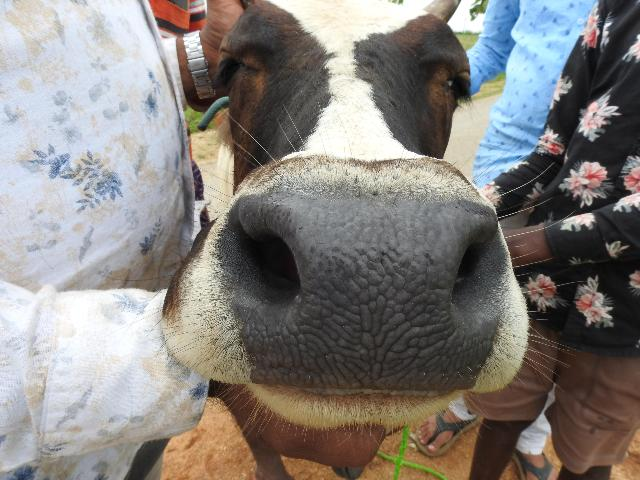Muzzle: (274, 194, 474, 384)
